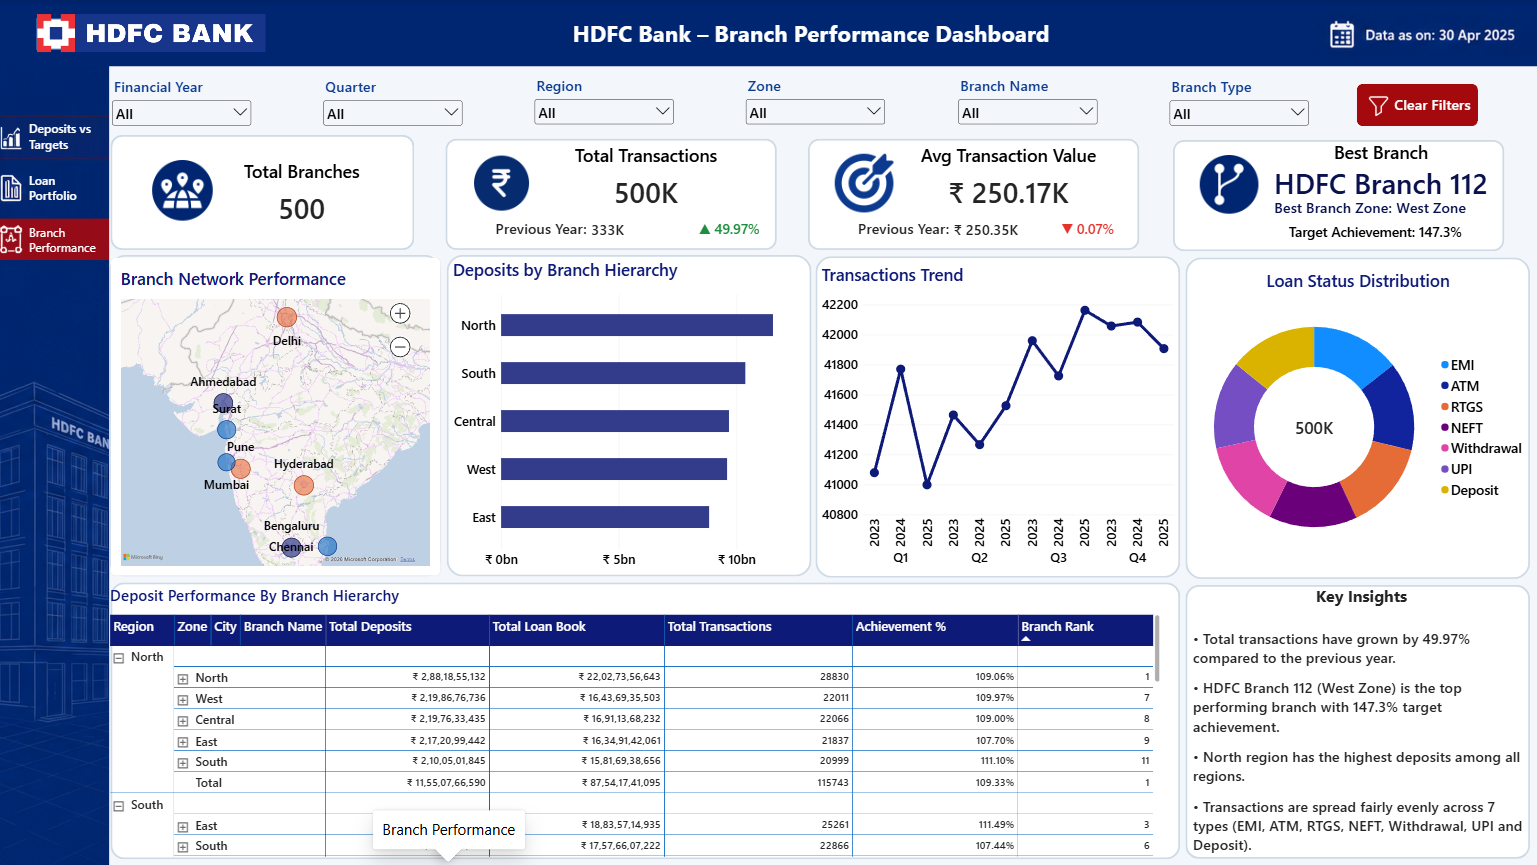

The page's visual inventory and layout, read from the dashboard file:
{"tool":"powerbi","page":{"name":"Branch Performance","canvas":[2560,1440],"ordinal":2},"visuals":[{"type":"shape","title":"Header","box":[0,0,2560.8,110.2],"z":0,"group":"g9"},{"type":"image","box":[0,2.5,185,1437.5],"z":0},{"type":"slicer","title":"Year","fields":{"Values":["Dim Date.Financial Year"]},"box":[184,124,241.1,89.4],"z":0,"group":"g8"},{"type":"actionButton","box":[2257.8,139.2,201.6,70.7],"z":0,"group":"g10"},{"type":"shape","box":[187.1,224.5,505.1,191.2],"z":0,"group":"g7"},{"type":"shape","box":[744.6,230.7,550.8,185],"z":0,"group":"g6"},{"type":"shape","box":[1347.9,230.7,550.8,185],"z":0,"group":"g5"},{"type":"shape","box":[1953.6,232.5,550.8,185],"z":0,"group":"g1"},{"type":"textbox","box":[827.1,363.7,175,32.5],"z":0,"group":"g3"},{"type":"textbox","box":[1430.4,363.7,175,32.5],"z":0,"group":"g4"},{"type":"shape","title":"Logo 2nd","box":[64.7,30.9,64.7,50.8],"z":1000,"group":"g9"},{"type":"slicer","title":"Qua","fields":{"Values":["Dim Date.Quarter"]},"box":[535.6,123.7,241.1,89.4],"z":1000,"group":"g8"},{"type":"image","box":[2276.5,145.4,35.3,62.4],"z":1000,"group":"g10"},{"type":"group","id":"g1","title":"4th KPI","box":[1953.6,232.5,551.3,184.6],"z":1000},{"type":"group","id":"g2","title":"Side-KPI","box":[2121.2,328.1,355.5,38.4],"z":1000,"group":"g1"},{"type":"cardVisual","fields":{"Data":["Measures_3.Best Branch Zone"]},"box":[2308.9,328.8,167.8,33.6],"z":1000,"group":"g2"},{"type":"group","id":"g3","title":"Side-KPI","box":[827.1,360.1,461.2,41.6],"z":1000,"group":"g6"},{"type":"group","id":"g4","title":"Side-KPI","box":[1430.4,360.1,461.2,41.6],"z":1000,"group":"g5"},{"type":"cardVisual","fields":{"Data":["Measures_3.Total Transactions PY"]},"box":[969.8,360.2,168.4,41.6],"z":1000,"group":"g3"},{"type":"cardVisual","fields":{"Data":["Measures_3.Avg Transaction Value PY"]},"box":[1573.1,360.2,168.4,41.6],"z":1000,"group":"g4"},{"type":"textbox","box":[2121.2,328.1,220.5,38.4],"z":1500,"group":"g2"},{"type":"cardVisual","title":"%","fields":{"Data":["Measures_3.Best Branch Achievement"]},"box":[2130.8,361.7,328.4,45.5],"z":1500,"group":"g1"},{"type":"image","title":"Logo","box":[0,0,509.2,110.2],"z":2000,"group":"g9"},{"type":"slicer","title":"Region","fields":{"Values":["Dim Branch.Region"]},"box":[887.2,122.7,241.1,89.4],"z":2000,"group":"g8"},{"type":"group","id":"g5","title":"3rd KPI","box":[1347.9,230.7,550.8,185],"z":2000},{"type":"cardVisual","fields":{"Data":["Measures_3.Total Transactions"]},"box":[913.2,236.1,330.8,115.9],"z":2000,"group":"g6"},{"type":"cardVisual","fields":{"Data":["Measures_3.Avg Transaction Value"]},"box":[1516.5,236.1,330.8,115.9],"z":2000,"group":"g5"},{"type":"cardVisual","fields":{"Data":["Measures_3.Best Branch"]},"box":[2094.9,237,409.9,95.9],"z":2000,"group":"g1"},{"type":"cardVisual","fields":{"Data":["Measures_3.Total Branches"]},"box":[353.2,260.9,303.3,119.9],"z":2000,"group":"g7"},{"type":"cardVisual","title":"%","fields":{"Data":["Measures_3.Transactions Growth Label"]},"box":[1148.3,360.1,140,38.7],"z":2000,"group":"g3"},{"type":"cardVisual","title":"%","fields":{"Data":["Measures_3.Avg Growth Label"]},"box":[1751.6,360.1,140,38.7],"z":2000,"group":"g4"},{"type":"textbox","title":"Heading","box":[796.1,29,1112.5,51.2],"z":3000,"group":"g9"},{"type":"slicer","title":"Zone","fields":{"Values":["Dim Branch.Zone"]},"box":[1238.8,122.3,241.1,89.4],"z":3000,"group":"g8"},{"type":"group","id":"g6","title":"2nd KPI","box":[744.6,230.7,550.8,185],"z":3000},{"type":"image","box":[777.5,256.3,119.9,97.4],"z":3000,"group":"g6"},{"type":"image","box":[1380.8,256.3,119.9,97.4],"z":3000,"group":"g5"},{"type":"image","box":[1986.5,258.1,119.9,97.4],"z":3000,"group":"g1"},{"type":"image","box":[251.4,265.1,109.9,100.7],"z":3000,"group":"g7"},{"type":"slicer","title":"Branch","fields":{"Values":["Dim Branch.Branch Name"]},"box":[1590.4,122,241.1,89.4],"z":4000,"group":"g8"},{"type":"group","id":"g7","title":"1st KPI","box":[187.1,224.5,505.1,191.2],"z":4000},{"type":"group","id":"g8","title":"Slicer","box":[184,122,2275.4,91.4],"z":5000},{"type":"slicer","title":"Product","fields":{"Values":["Dim Branch.Branch Type"]},"box":[1942,123.3,241.1,89.4],"z":5000,"group":"g8"},{"type":"group","id":"g9","title":"Header","box":[0,0,2559.7,110.7],"z":6000},{"type":"group","id":"g10","title":"Clear Filter","box":[2257.8,139.2,201.6,70.7],"z":6000,"group":"g8"},{"type":"shape","box":[184.6,424.3,551.3,534.5],"z":7000},{"type":"shape","box":[745.5,424.3,606.4,534.5],"z":8000},{"type":"shape","box":[1359.1,426.7,606.4,534.5],"z":9000},{"type":"shape","box":[1975.1,429.1,572.9,534.5],"z":10000},{"type":"shape","box":[187,968.4,1778.6,460.2],"z":11000},{"type":"shape","box":[1975.1,973.2,572.9,455.4],"z":12000},{"type":"map","title":"Branch Network Performance ","fields":{"Category":["Dim Branch.City"],"Size":["Measures_1.Total Deposits"]},"box":[187,429.1,548.9,529.7],"z":13000},{"type":"clusteredBarChart","title":"Deposits by Branch Hierarchy","fields":{"Category":["Dim Branch.Branch Hierarchy.Region"],"Y":["Measures_1.Total Deposits"]},"box":[745.5,424.3,601.6,534.5],"z":14000},{"type":"lineChart","title":"Transactions Trend","fields":{"Category":["Dim Date.Quarter","Dim Date.Year"],"Y":["Measures_3.Total Transactions"]},"box":[1359.1,431.5,606.4,527.3],"z":15000},{"type":"donutChart","title":"Loan Status Distribution","fields":{"Category":["Fact Transactions.Transaction Type"],"Y":["Measures_3.Total Transactions"]},"box":[1965,432.5,594.5,503],"z":16000},{"type":"pivotTable","title":"Deposit Performance By Branch Hierarchy","fields":{"Rows":["Dim Branch.Region","Dim Branch.Zone","Dim Branch.City","Dim Branch.Branch Name"],"Values":["Measures_1.Total Deposits","Measures_2.Total Loan Book","Measures_3.Total Transactions","Measures_1.Achievement %","Measures_3.Branch Rank"]},"box":[170,957.5,1777.5,482.5],"z":17000},{"type":"textbox","box":[1987.5,972.5,560,455],"z":18000},{"type":"image","box":[2180,2,380,110],"z":19000},{"type":"pageNavigator","box":[40,182.5,140,257.5],"z":20000}]}

Visuals, with their boxes on the page's 2560x1440 design canvas (x1, y1, x2, y2). These are canvas units, not pixel positions in the 1537x865 screenshot, which may show the page scaled, cropped or inside an application window:
"Header" shape: rect(0, 0, 2561, 110)
image: rect(0, 2, 185, 1440)
"Year" slicer: rect(184, 124, 425, 213)
actionButton: rect(2258, 139, 2459, 210)
shape: rect(187, 224, 692, 416)
shape: rect(745, 231, 1295, 416)
shape: rect(1348, 231, 1899, 416)
shape: rect(1954, 232, 2504, 418)
textbox: rect(827, 364, 1002, 396)
textbox: rect(1430, 364, 1605, 396)
"Logo 2nd" shape: rect(65, 31, 129, 82)
"Qua" slicer: rect(536, 124, 777, 213)
image: rect(2276, 145, 2312, 208)
"4th KPI" group: rect(1954, 232, 2505, 417)
"Side-KPI" group: rect(2121, 328, 2477, 366)
cardVisual - Measures_3.Best Branch Zone: rect(2309, 329, 2477, 362)
"Side-KPI" group: rect(827, 360, 1288, 402)
"Side-KPI" group: rect(1430, 360, 1892, 402)
cardVisual - Measures_3.Total Transactions PY: rect(970, 360, 1138, 402)
cardVisual - Measures_3.Avg Transaction Value PY: rect(1573, 360, 1742, 402)
textbox: rect(2121, 328, 2342, 366)
"%" cardVisual: rect(2131, 362, 2459, 407)
"Logo" image: rect(0, 0, 509, 110)
"Region" slicer: rect(887, 123, 1128, 212)
"3rd KPI" group: rect(1348, 231, 1899, 416)
cardVisual - Measures_3.Total Transactions: rect(913, 236, 1244, 352)
cardVisual - Measures_3.Avg Transaction Value: rect(1516, 236, 1847, 352)
cardVisual - Measures_3.Best Branch: rect(2095, 237, 2505, 333)
cardVisual - Measures_3.Total Branches: rect(353, 261, 656, 381)
"%" cardVisual: rect(1148, 360, 1288, 399)
"%" cardVisual: rect(1752, 360, 1892, 399)
"Heading" textbox: rect(796, 29, 1909, 80)
"Zone" slicer: rect(1239, 122, 1480, 212)
"2nd KPI" group: rect(745, 231, 1295, 416)
image: rect(778, 256, 897, 354)
image: rect(1381, 256, 1501, 354)
image: rect(1986, 258, 2106, 356)
image: rect(251, 265, 361, 366)
"Branch" slicer: rect(1590, 122, 1832, 211)
"1st KPI" group: rect(187, 224, 692, 416)
"Slicer" group: rect(184, 122, 2459, 213)
"Product" slicer: rect(1942, 123, 2183, 213)
"Header" group: rect(0, 0, 2560, 111)
"Clear Filter" group: rect(2258, 139, 2459, 210)
shape: rect(185, 424, 736, 959)
shape: rect(746, 424, 1352, 959)
shape: rect(1359, 427, 1966, 961)
shape: rect(1975, 429, 2548, 964)
shape: rect(187, 968, 1966, 1429)
shape: rect(1975, 973, 2548, 1429)
"Branch Network Performance " map: rect(187, 429, 736, 959)
"Deposits by Branch Hierarchy" clusteredBarChart: rect(746, 424, 1347, 959)
"Transactions Trend" lineChart: rect(1359, 432, 1966, 959)
"Loan Status Distribution" donutChart: rect(1965, 432, 2560, 936)
"Deposit Performance By Branch Hierarchy" pivotTable: rect(170, 958, 1948, 1440)
textbox: rect(1988, 972, 2548, 1428)
image: rect(2180, 2, 2560, 112)
pageNavigator: rect(40, 182, 180, 440)
